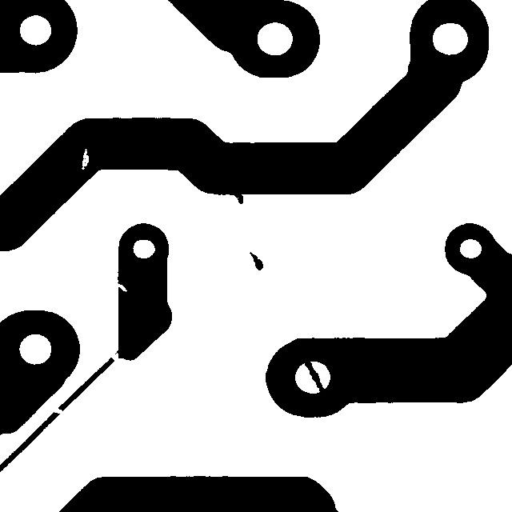copper: (242, 244, 270, 278)
mousebite: (105, 275, 134, 299)
open: (102, 343, 128, 370), (46, 401, 70, 421)
pin-hole: (74, 141, 96, 177)
short: (296, 352, 332, 399)
spur: (224, 183, 250, 211)
